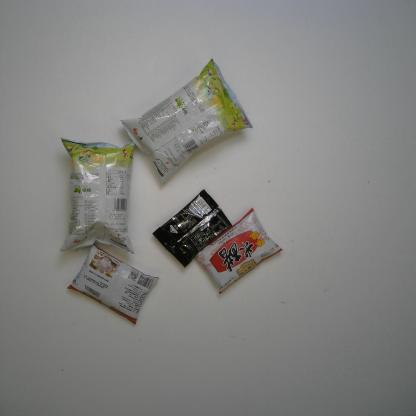Instant Drink: (151, 188, 233, 270)
Puffed Food: (119, 57, 255, 188), (57, 136, 138, 256)
Seasoner: (194, 206, 284, 295), (66, 243, 160, 326)
